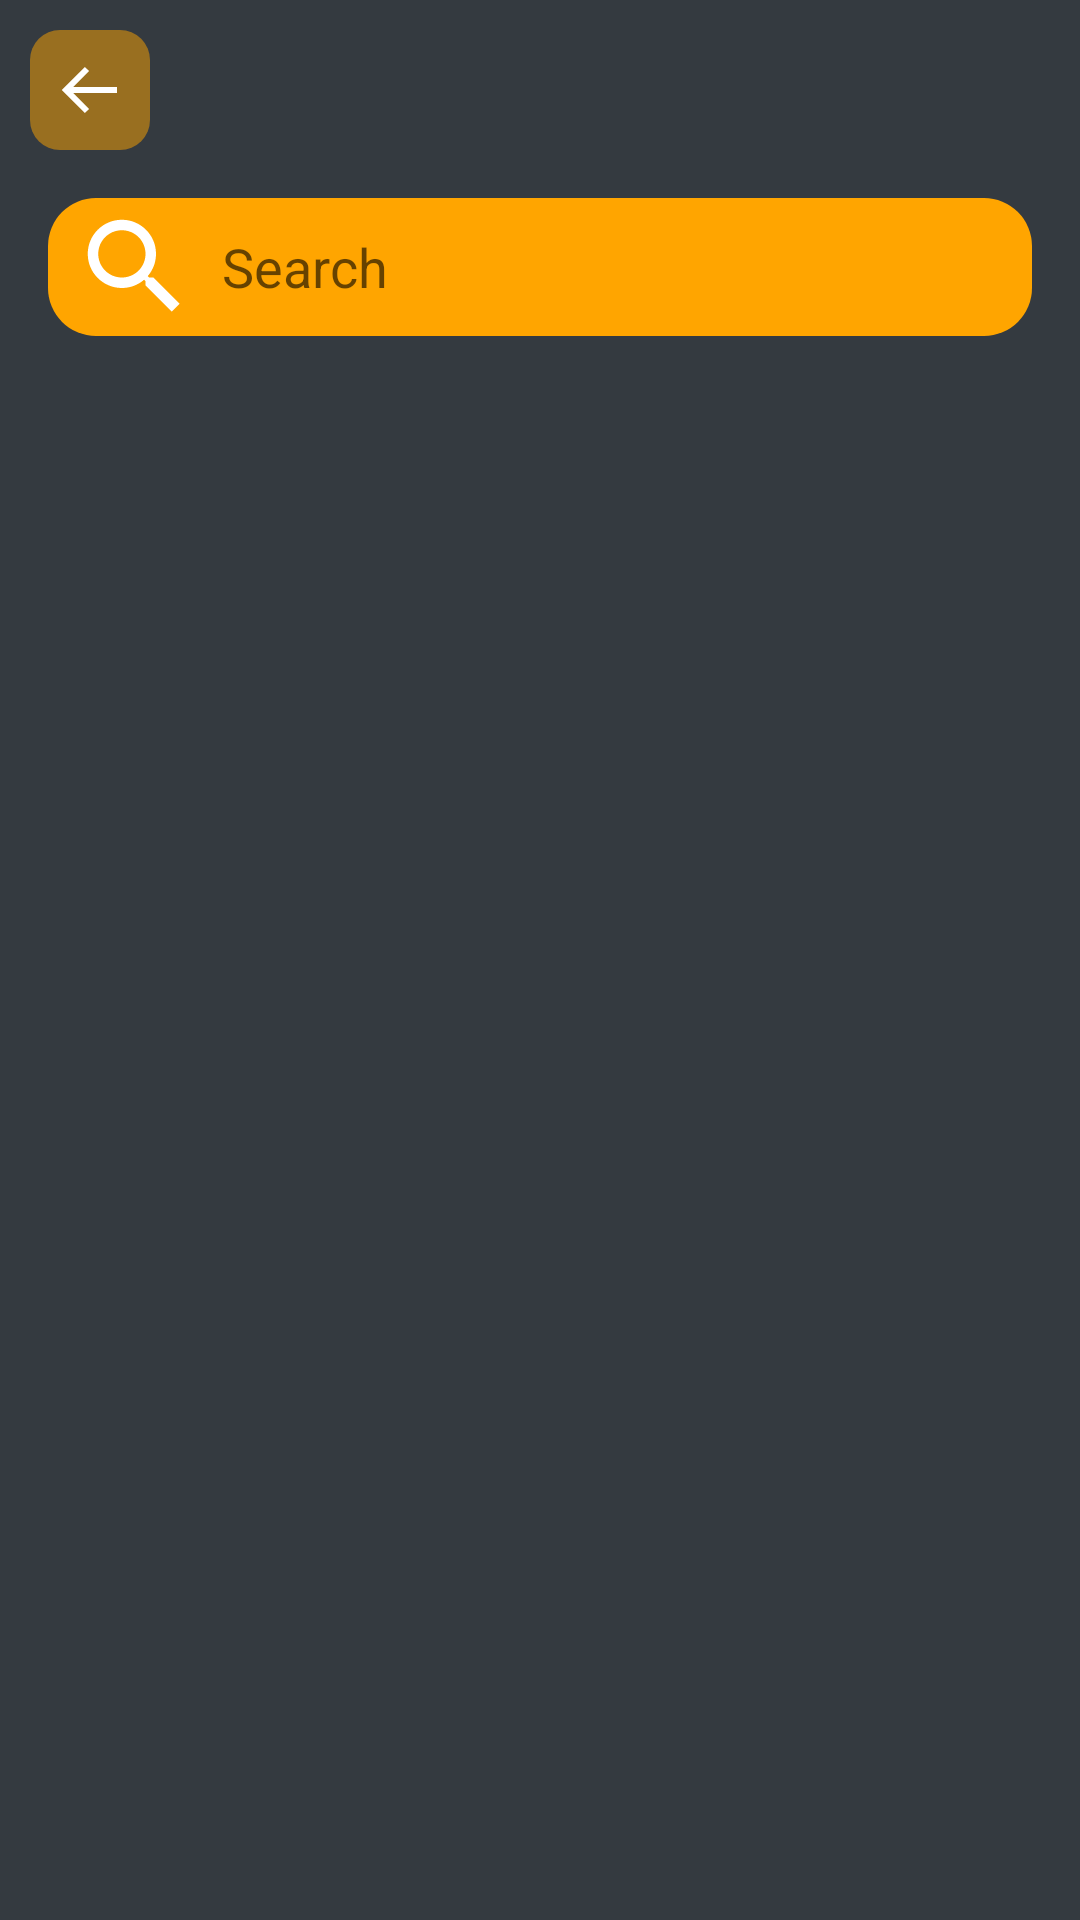

Named icons in this screenshot (1080px×1920px) and their centers, (x=x, y=y):
back: (x=90, y=90)
